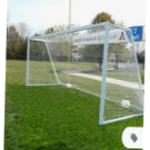goals: (24, 20, 143, 124)
